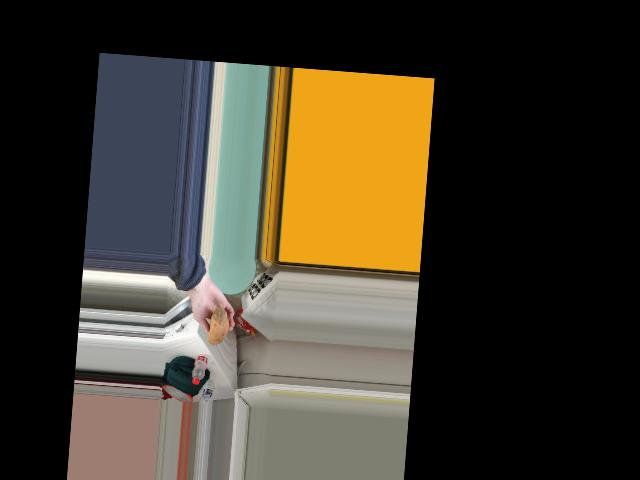sweet_potato: (204, 300, 228, 348)
